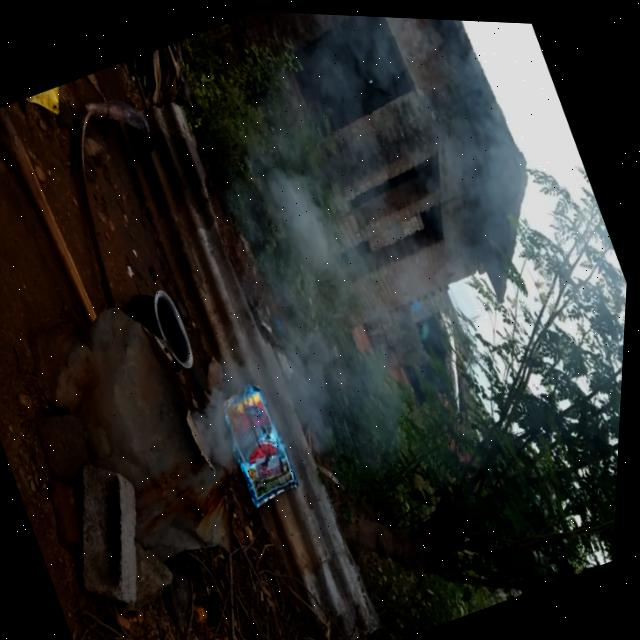Smoke: (47, 2, 628, 541)
